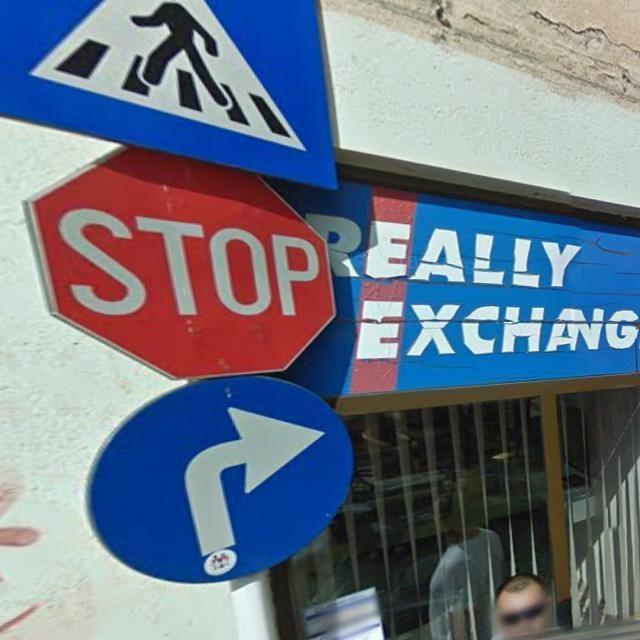prio_stop: (23, 140, 336, 379)
